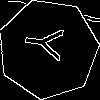Y: (23, 24, 74, 63)
